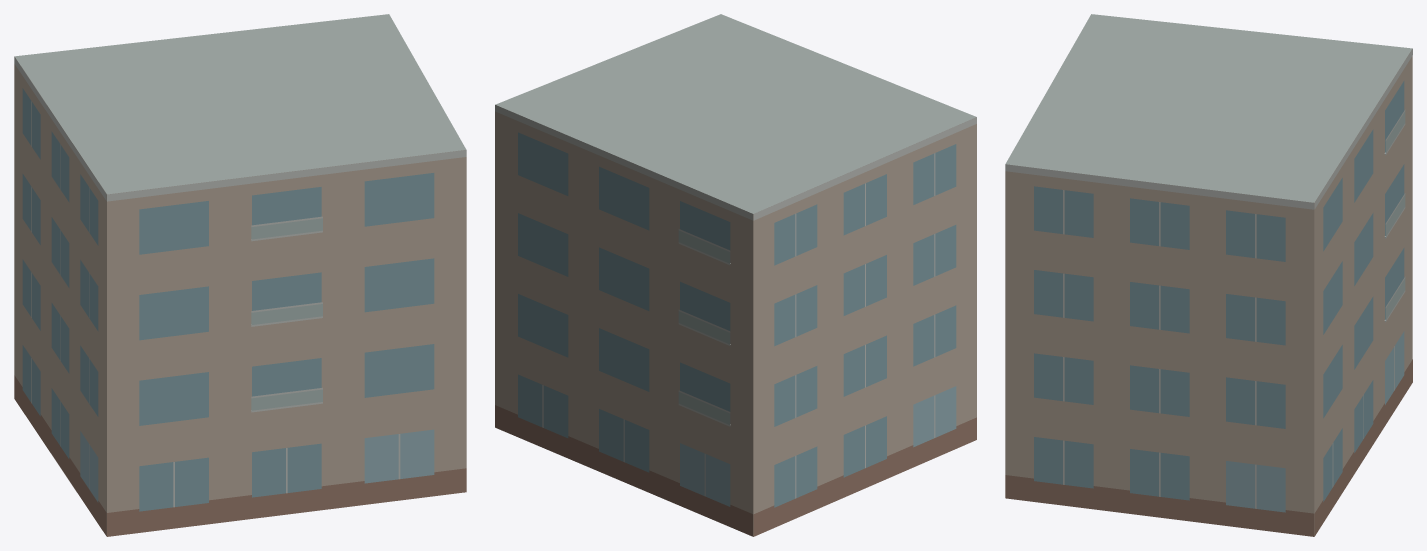
The model's file is survey-upis-32599782.glb.
3 renders of one model, left to right at view 1: azimuth 30°, elevation 25°; view 2: azimuth 150°, elevation 25°; view 3: azimuth 270°, elevation 25°, orthographic. The views are drawn at different scales.
Visible parts, largest first — view 1: survey-upis-32599782.tmp; view 2: survey-upis-32599782.tmp; view 3: survey-upis-32599782.tmp.
Boxes of the visible parts, left/top/right/bottom form: survey-upis-32599782.tmp: left=14, top=14, right=466, bottom=536; survey-upis-32599782.tmp: left=495, top=14, right=976, bottom=536; survey-upis-32599782.tmp: left=1005, top=14, right=1412, bottom=536.
Bounding box in the file's own units: 14.19 × 11.7 × 12.94.
